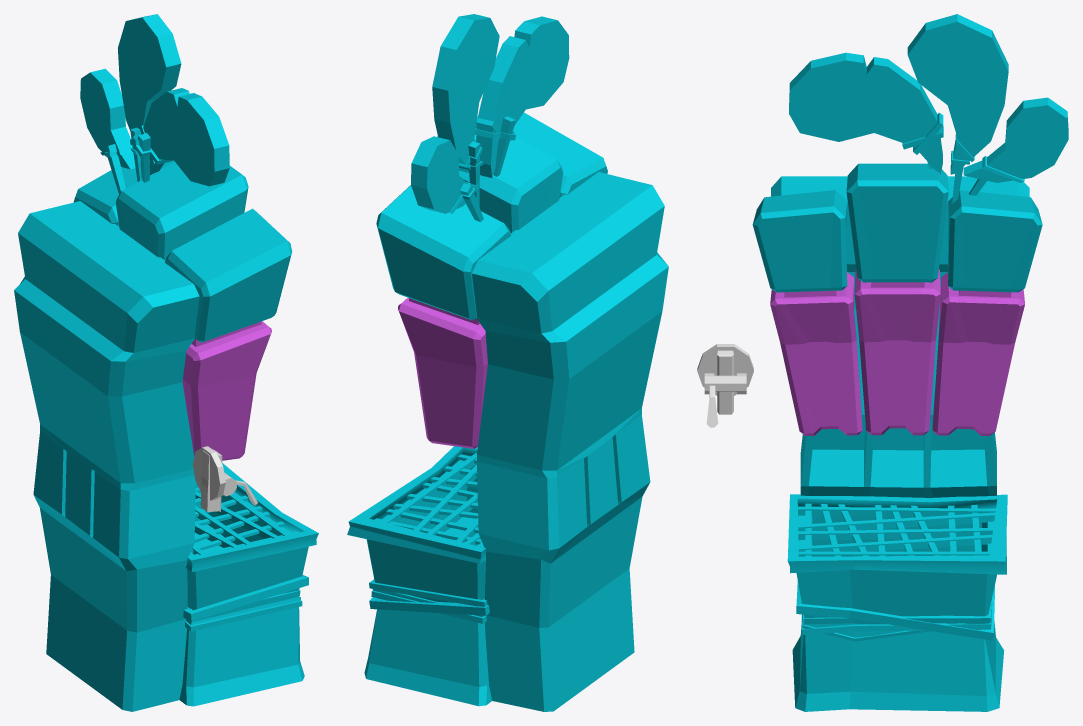
The model's file is SM_SlushStation.fbx.
3 views of the same model, side by side, from view 1: azimuth 30°, elevation 25°; view 2: azimuth 150°, elevation 25°; view 3: azimuth 270°, elevation 25° (orthographic). The views are drawn at different scales.
Visible parts, largest first — view 1: SM_DrinkStation, SM_SlushRobinet; view 2: SM_DrinkStation; view 3: SM_DrinkStation, SM_SlushRobinet, SM_SlushHandle.
Part boxes in pixels (x1,y1,x2,y2): SM_DrinkStation: (14,14,318,711); SM_SlushRobinet: (193,446,225,511); SM_DrinkStation: (347,14,668,711); SM_DrinkStation: (752,14,1068,711); SM_SlushRobinet: (697,344,753,414); SM_SlushHandle: (704,373,746,427).
Size of the model in its own units: 135 by 395 by 204.
